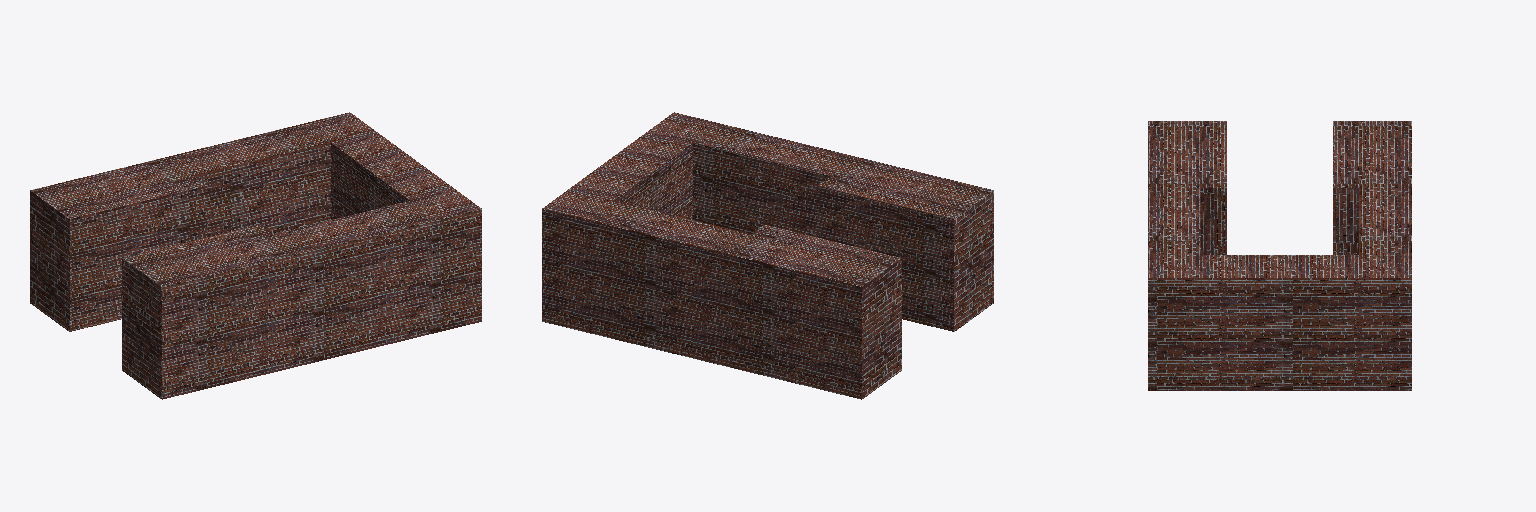
3 views of the same model, side by side, from view 1: azimuth 30°, elevation 25°; view 2: azimuth 150°, elevation 25°; view 3: azimuth 270°, elevation 25° (orthographic).
Parts seen in each view (by area): view 1: Parking_Cube.029; view 2: Parking_Cube.029; view 3: Parking_Cube.029.
Part boxes in pixels (left/top/right/bottom): Parking_Cube.029: left=30, top=112, right=481, bottom=399; Parking_Cube.029: left=542, top=112, right=993, bottom=399; Parking_Cube.029: left=1148, top=121, right=1411, bottom=390.
Size of the model in its own units: 1.75 by 0.5891 by 1.25.
1 materials, 1 textured.